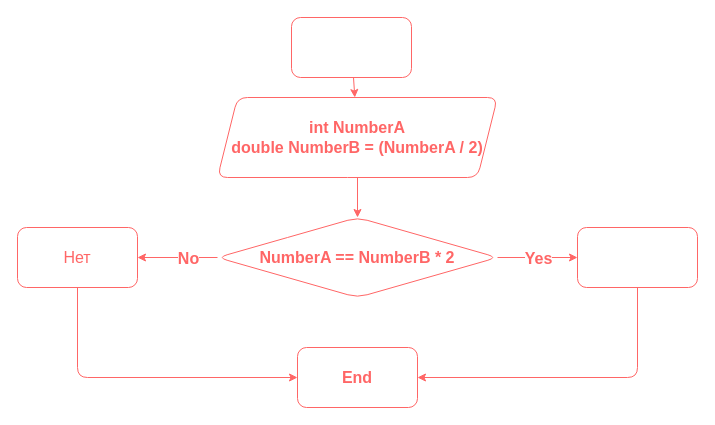
Some shapes in this 715 by 425 pixel diagram are drawn without their labels. Each missing label, with the centre of its shape:
Start: the point at 351,47
Да: the point at 637,257
